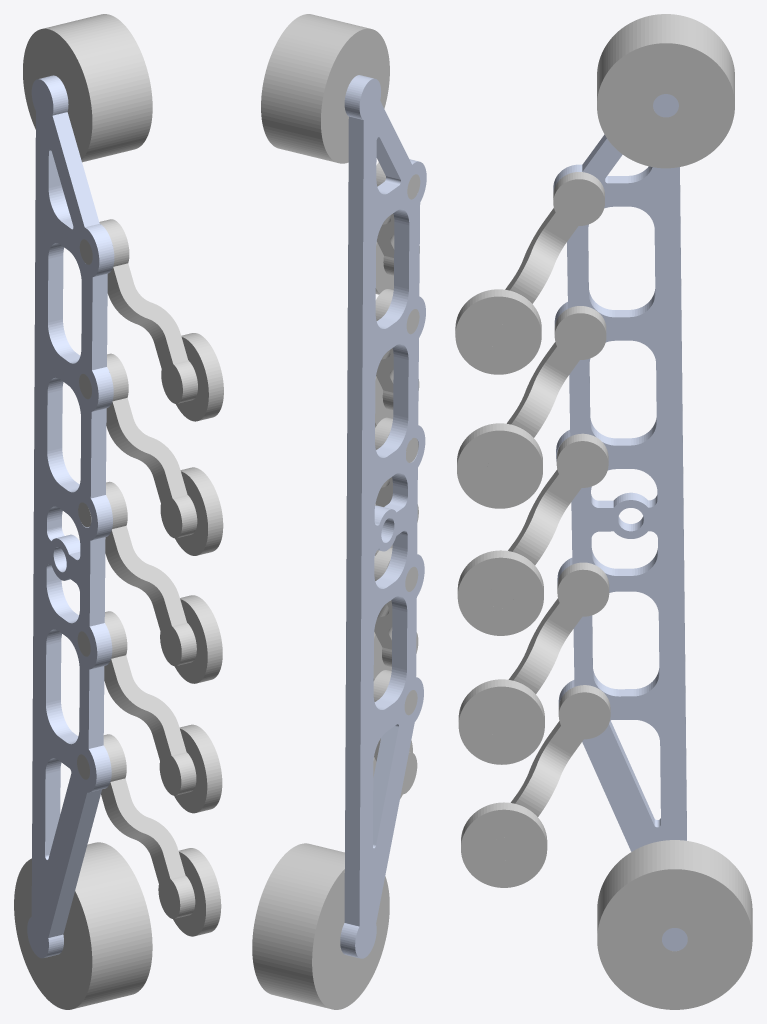
The model's file is SubensambleIzquierdo.dae.
3 views of the same model, side by side, from view 1: azimuth 30°, elevation 25°; view 2: azimuth 150°, elevation 25°; view 3: azimuth 270°, elevation 25° (orthographic).
Visible parts, largest first — view 1: Perfil_IzquierdoV1.1, Pieza_ResorteV1.3 (×5), Rueda_TraseraV1.0, Rueda_ResorteV1.0 (×5), Rueda_FrenteV1.0; view 2: Perfil_IzquierdoV1.1, Rueda_TraseraV1.0, Rueda_FrenteV1.0, Pieza_ResorteV1.3 (×5), Rueda_ResorteV1.0 (×2); view 3: Perfil_IzquierdoV1.1, Pieza_ResorteV1.3 (×5), Rueda_ResorteV1.0 (×5), Rueda_TraseraV1.0, Rueda_FrenteV1.0.
Boxes of the visible parts, x1,y1,x2,y2 form: Perfil_IzquierdoV1.1: (27, 75, 114, 958); Pieza_ResorteV1.3 (×5): (77, 219, 197, 918); Rueda_TraseraV1.0: (14, 842, 152, 1009); Rueda_ResorteV1.0 (×5): (173, 333, 223, 936); Rueda_FrenteV1.0: (23, 14, 152, 162); Perfil_IzquierdoV1.1: (340, 75, 426, 958); Rueda_TraseraV1.0: (252, 843, 389, 1009); Rueda_FrenteV1.0: (261, 14, 389, 163); Pieza_ResorteV1.3 (×5): (373, 162, 420, 794); Rueda_ResorteV1.0 (×2): (375, 241, 393, 427); Perfil_IzquierdoV1.1: (553, 94, 687, 951); Pieza_ResorteV1.3 (×5): (485, 172, 610, 860); Rueda_ResorteV1.0 (×5): (455, 289, 547, 887); Rueda_TraseraV1.0: (597, 840, 752, 1009); Rueda_FrenteV1.0: (597, 14, 734, 168).
Bounding box in the file's own units: 0.05 × 0.1721 × 0.6179.
